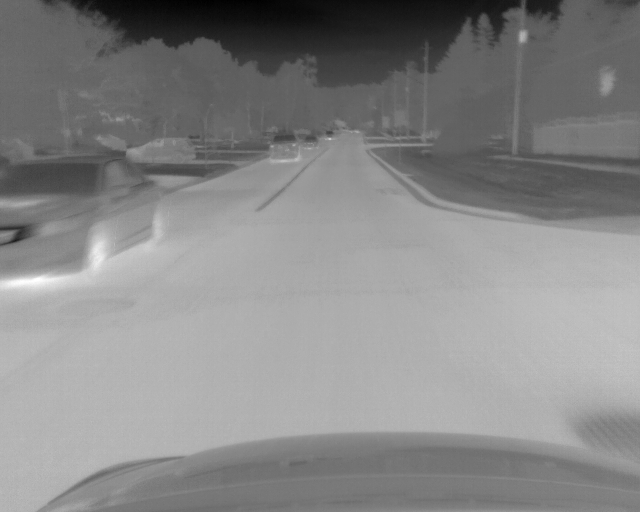car: (1, 150, 160, 283), (129, 136, 195, 165), (269, 132, 300, 160), (302, 134, 318, 151), (323, 128, 338, 141)
